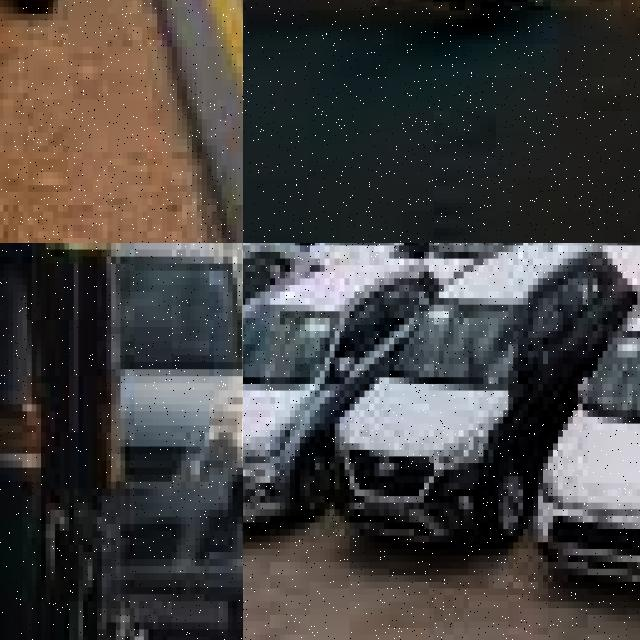car: (337, 243, 535, 598), (243, 252, 324, 595), (597, 251, 640, 621)
